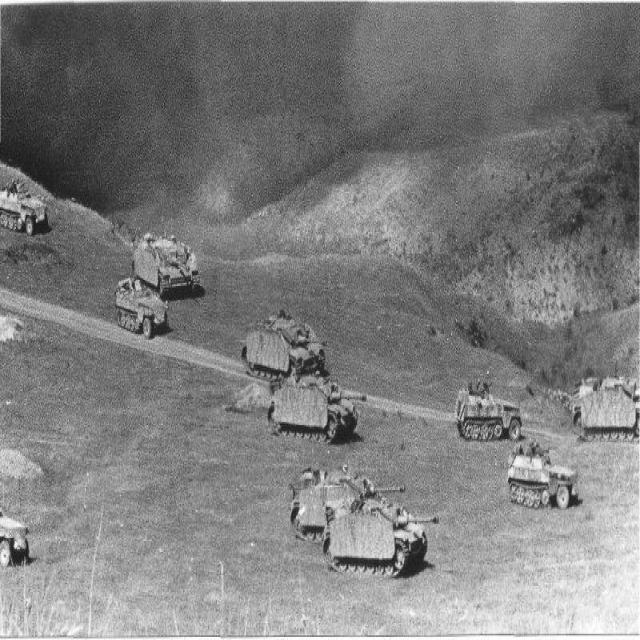Tanks: (295, 464, 431, 572), (246, 307, 352, 440), (567, 370, 634, 439), (510, 448, 578, 507), (133, 235, 203, 291), (457, 383, 518, 438)
